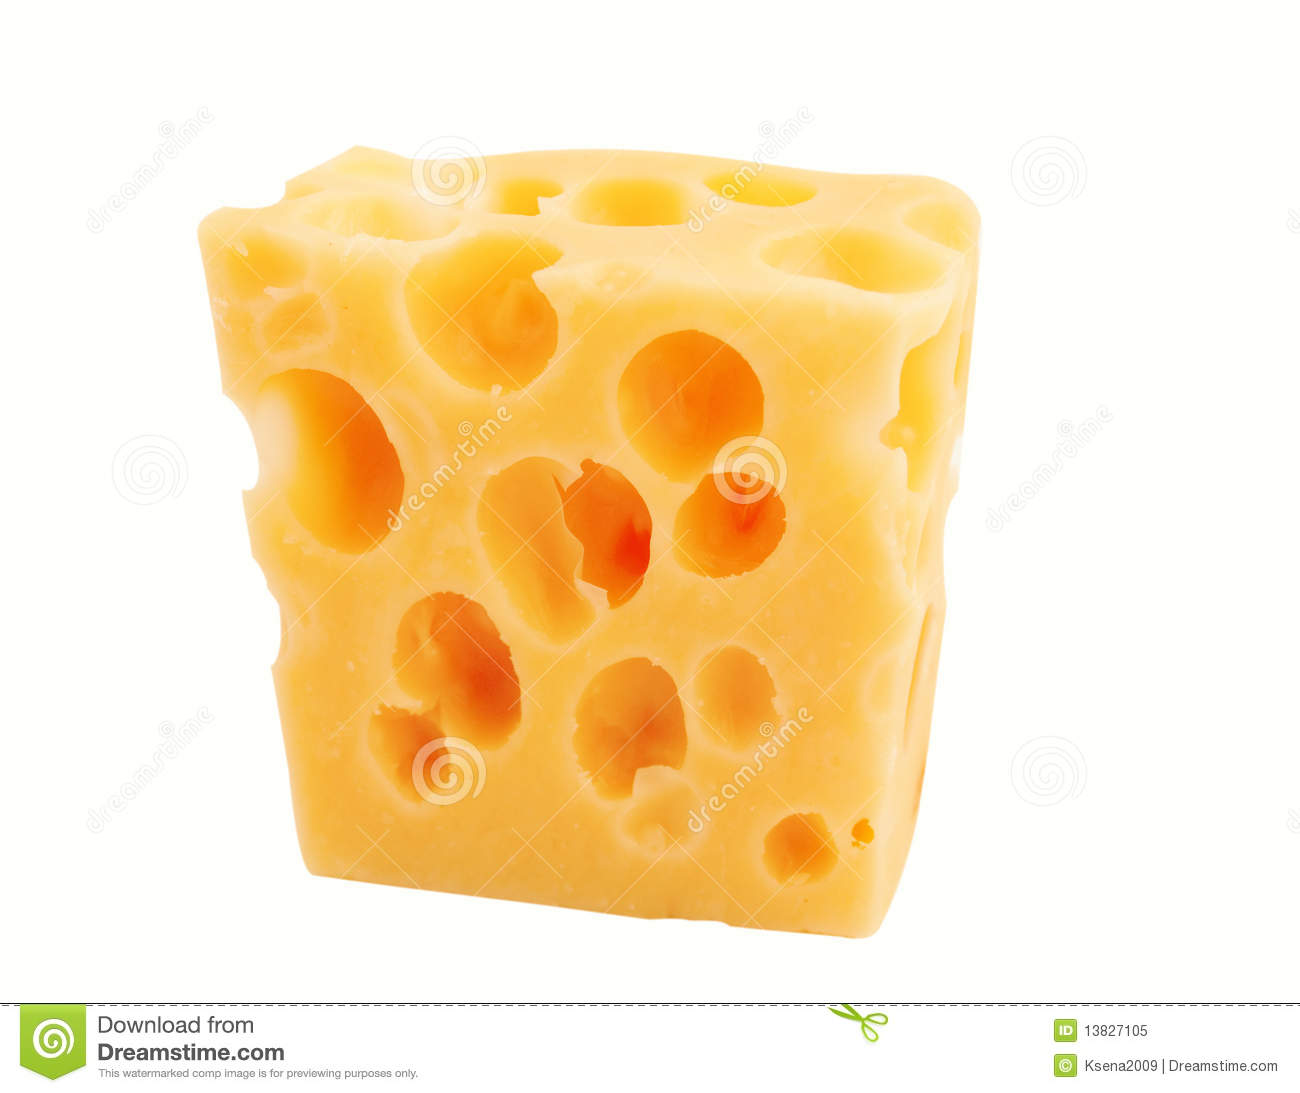cheese: (199, 127, 979, 944)
